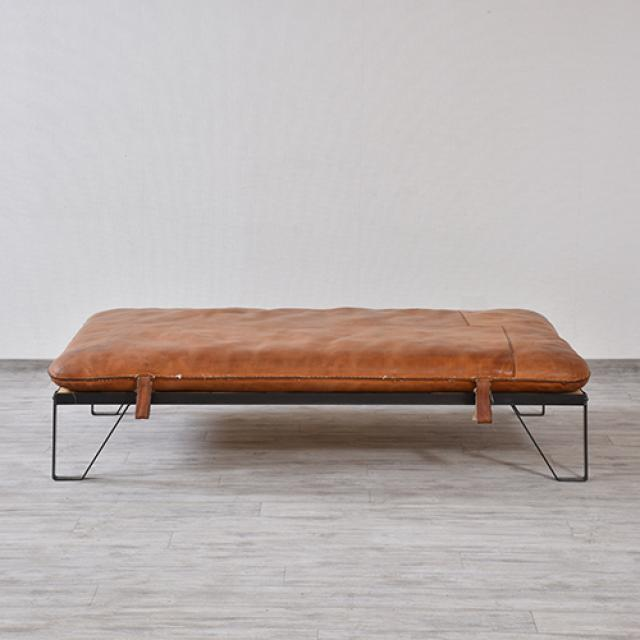bed vintage: (40, 302, 596, 492)
